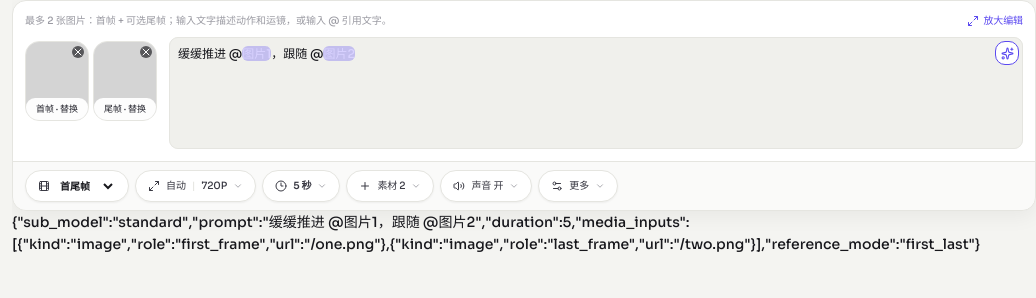
Test: compact video composer interactions › does not show a remaining tail image as the first image after deleting the first frame
The width and height of the screenshot is (1036, 298).
Click the button named "删除首帧" at (78, 52), box x1=72 y1=46 x2=84 y2=58
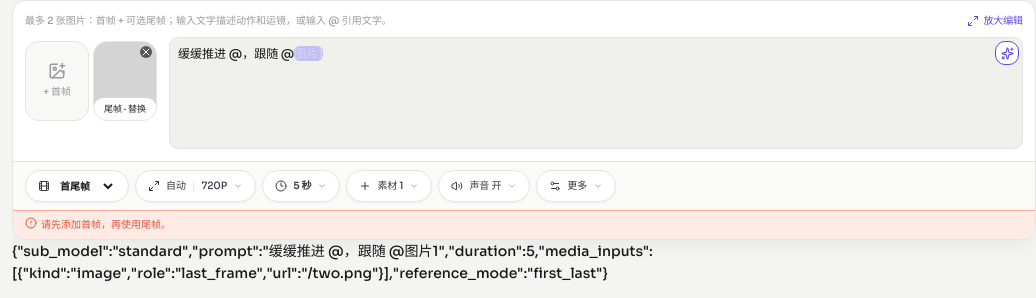
Expected: the button titled "添加首帧" is shown, x1=26 y1=42 x2=88 y2=120
